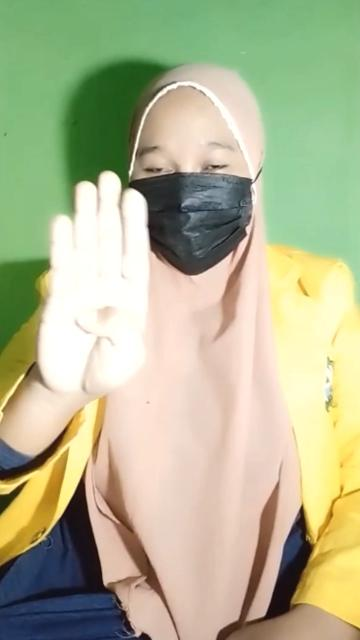B: (33, 170, 150, 400)
